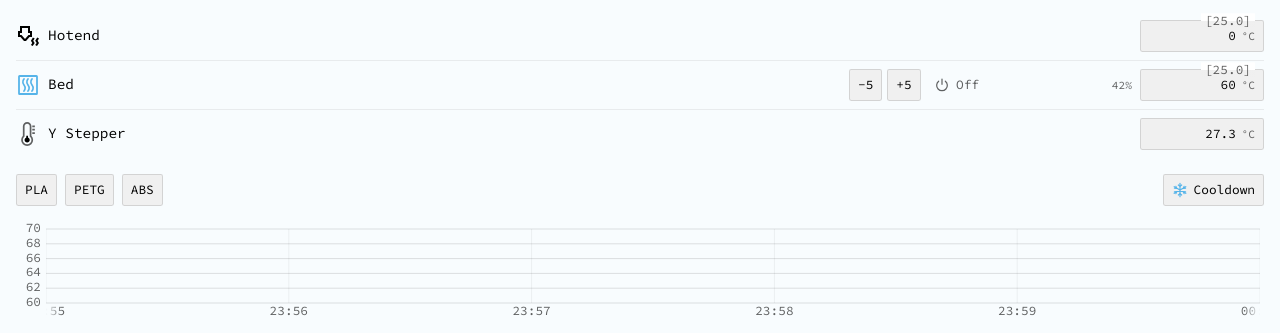
Scenario: TemperaturesModule › restores the printer’s own target when the field is left, sending nothing
Replace the text in the number field labelled "[25.0] °C" next to "42%" with "120". click: (1192, 85)
box: [1149, 75, 1236, 95]
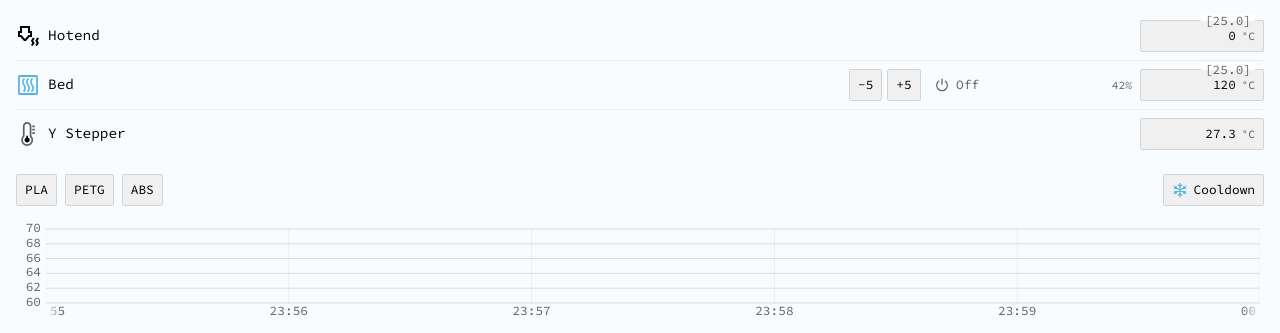
Leave the number field labelled "[25.0] °C" next to "42%", box [1149, 75, 1236, 95]
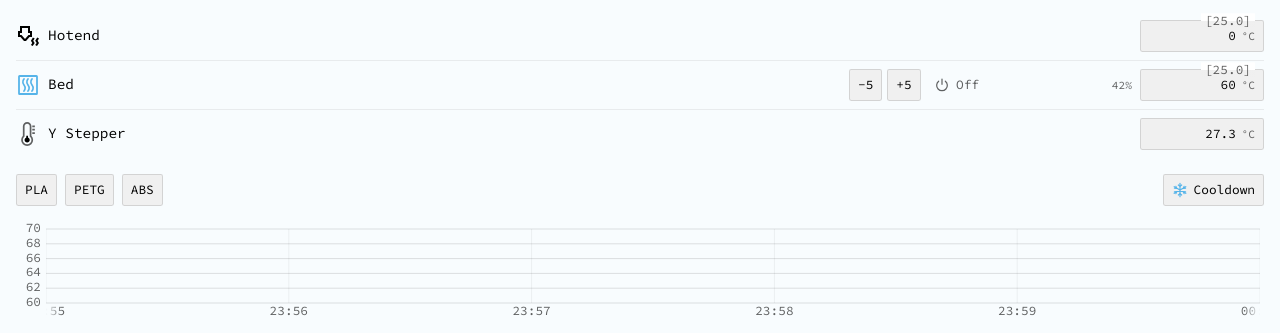
Now the number field labelled "[25.0] °C" next to "42%" holds "60", box [1149, 75, 1236, 95]
